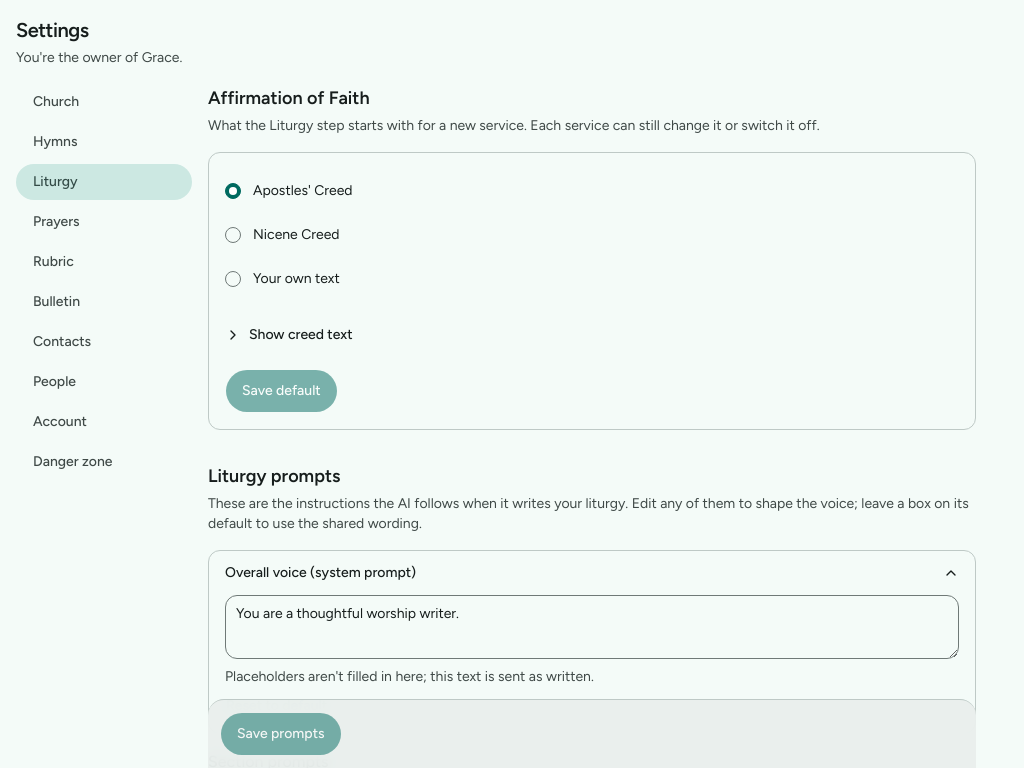
Settings → Liturgy: the Affirmation of Faith default (affirmation spec) › shows a creed's text and credit, and asks before leaving with an unsaved change
Click the radio button named "Nicene Creed" next to "Nicene Creed".
click(233, 235)  # box [225, 227, 241, 243]
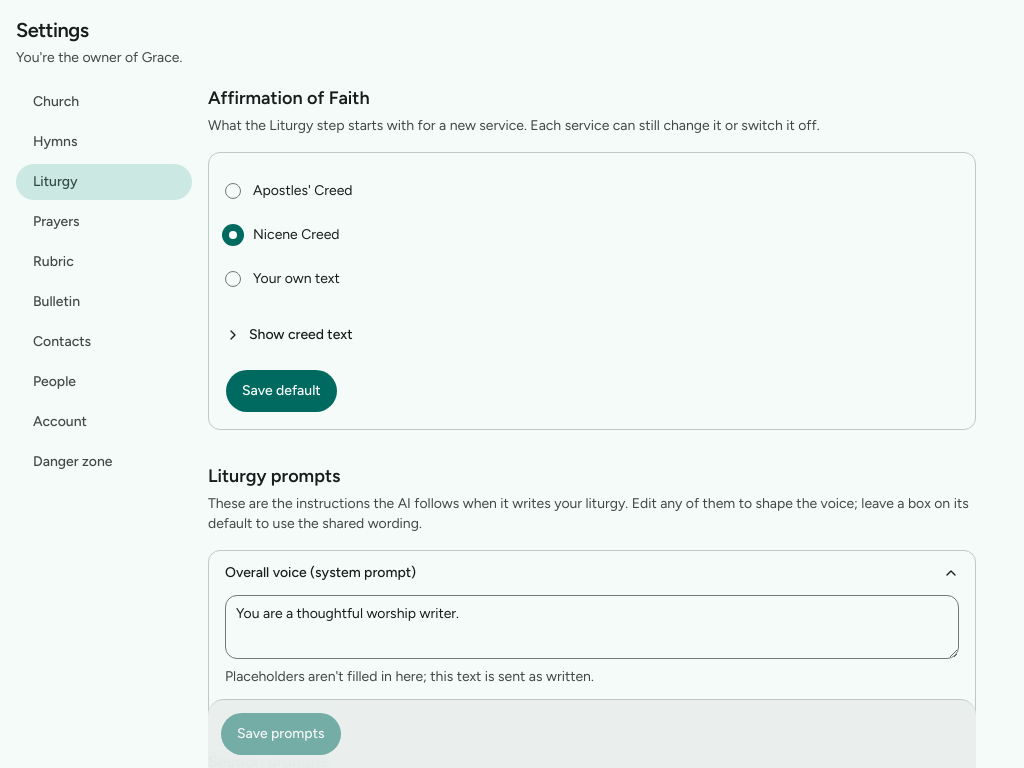
Click the button "Show creed text".
click(301, 334)  # box [225, 313, 959, 357]
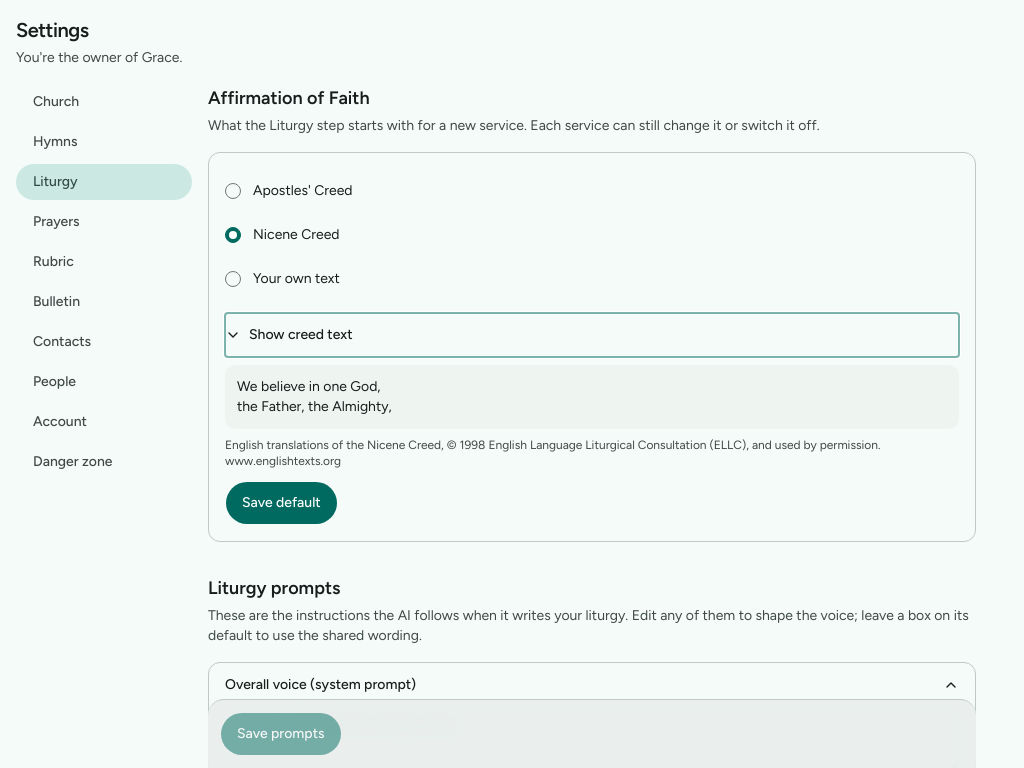
Check: the text "Consultation (ELLC), and used by permission." is shown, box [225, 438, 880, 468]
Click the link "Church".
click(56, 102)  # box [33, 93, 79, 110]
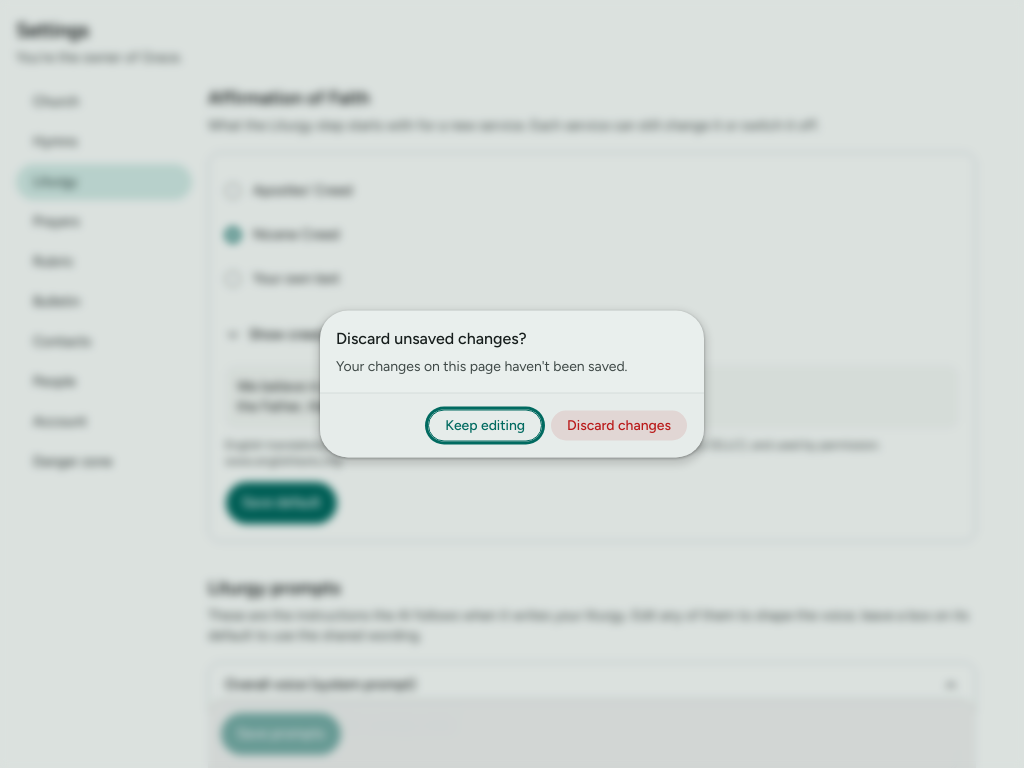
Check: the dialog "Discard unsaved changes?" is shown, box [320, 310, 704, 458]
